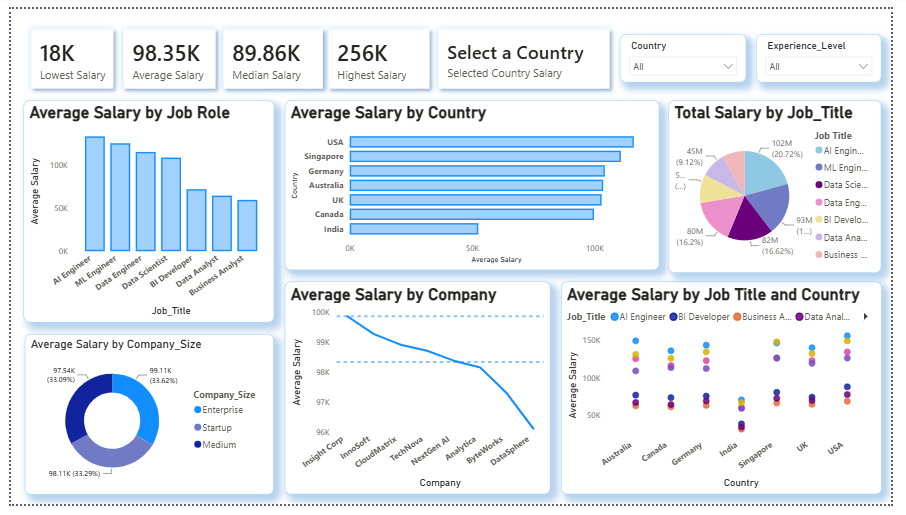

The dashboard page shown, as its layout file describes it:
{"tool":"powerbi","page":{"name":"Salary Analytics","canvas":[1280,720],"ordinal":2},"visuals":[{"type":"cardVisual","fields":{"Data":["JobData.Highest Salary"]},"box":[433.3,0,205.9,145.1],"z":0},{"type":"cardVisual","fields":{"Data":["JobData.Average Salary"]},"box":[135.3,0,192.2,145.1],"z":1000},{"type":"cardVisual","fields":{"Data":["JobData.Lowest Salary"]},"box":[0,0,178.4,145.1],"z":2000},{"type":"cardVisual","fields":{"Data":["JobData.Median Salary"]},"box":[280.4,0,203.9,145.1],"z":3000},{"type":"clusteredColumnChart","title":"Average Salary by Job Role","fields":{"Category":["JobData.Job_Title"],"Y":["JobData.Average Salary"]},"box":[17.6,133.3,364.7,323.5],"z":4000},{"type":"clusteredBarChart","fields":{"Category":["JobData.Country"],"Y":["JobData.Average Salary"]},"box":[398,133.3,545.1,247.1],"z":5000},{"type":"donutChart","fields":{"Category":["JobData.Company_Size"],"Y":["JobData.Average Salary"]},"box":[19.6,472.5,362.7,233.3],"z":6000},{"type":"lineChart","fields":{"Category":["JobData.Company"],"Y":["JobData.Average Salary"]},"box":[398,396.1,386.3,309.8],"z":7000},{"type":"scatterChart","title":"Average Salary by Job Title and Country","fields":{"Series":["JobData.Job_Title"],"Y":["JobData.Average Salary"],"X":["Skills Data.Country"]},"box":[800,396.1,466.7,309.8],"z":8000},{"type":"pieChart","fields":{"Category":["JobData.Job_Title"],"Y":["JobData.Total Salary"]},"box":[956.9,133.3,309.8,251],"z":9000},{"type":"slicer","fields":{"Values":["JobData.Country"]},"box":[886.3,37.3,184.3,70.6],"z":10000},{"type":"slicer","fields":{"Values":["JobData.Experience_Level"]},"box":[1084.3,37.3,182.4,70.6],"z":11000},{"type":"cardVisual","fields":{"Data":["JobData.Selected Country Salary"]},"box":[592.2,0,307.8,145.1],"z":12000}]}

Visuals, with their boxes in screenshot pixels (x1, y1, x2, y2), scaled from the page's 1280x720 canvas onto the 906x515 screenshot:
cardVisual - JobData.Highest Salary: locate(307, 0, 452, 104)
cardVisual - JobData.Average Salary: locate(96, 0, 232, 104)
cardVisual - JobData.Lowest Salary: locate(0, 0, 126, 104)
cardVisual - JobData.Median Salary: locate(198, 0, 343, 104)
"Average Salary by Job Role" clusteredColumnChart: locate(12, 95, 271, 327)
clusteredBarChart - JobData.Country x JobData.Average Salary: locate(282, 95, 668, 272)
donutChart - JobData.Company_Size x JobData.Average Salary: locate(14, 338, 271, 505)
lineChart - JobData.Company x JobData.Average Salary: locate(282, 283, 555, 505)
"Average Salary by Job Title and Country" scatterChart: locate(566, 283, 897, 505)
pieChart - JobData.Job_Title x JobData.Total Salary: locate(677, 95, 897, 275)
slicer - JobData.Country: locate(627, 27, 758, 77)
slicer - JobData.Experience_Level: locate(767, 27, 897, 77)
cardVisual - JobData.Selected Country Salary: locate(419, 0, 637, 104)
